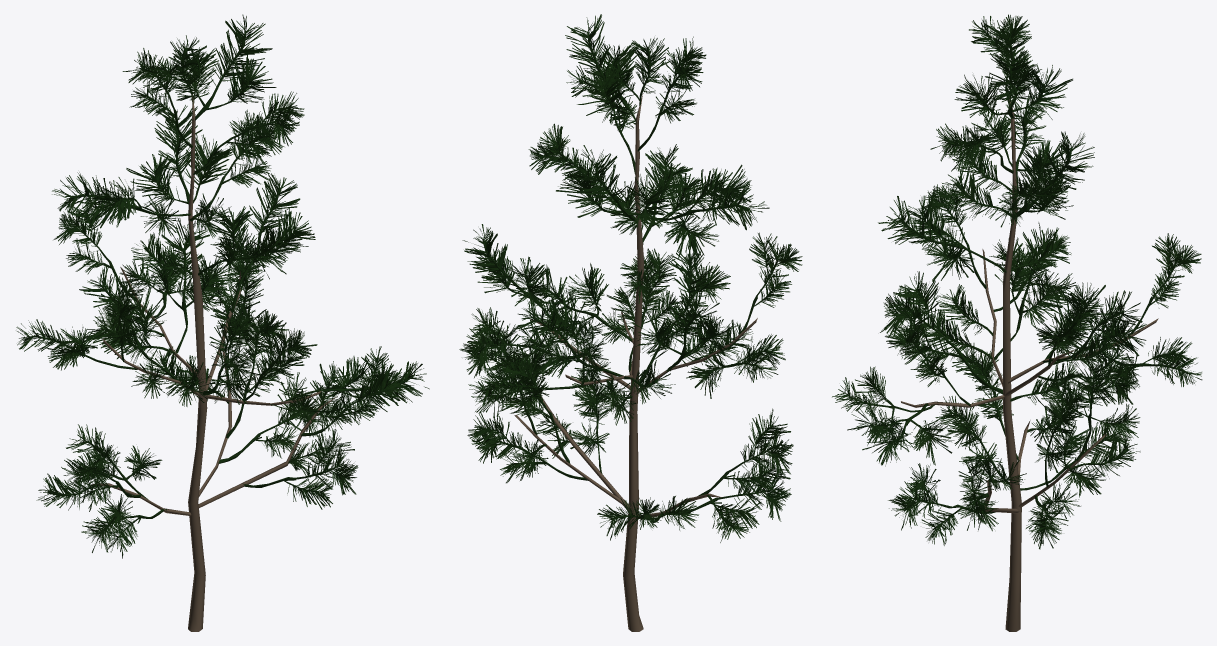
The model's file is Pine_Sapling.fbx.
3 views of the same model, side by side, from view 1: azimuth 30°, elevation 25°; view 2: azimuth 150°, elevation 25°; view 3: azimuth 270°, elevation 25° (orthographic).
Visible parts, largest first — view 1: pine_sapling_small_a; view 2: pine_sapling_small_a; view 3: pine_sapling_small_a.
Part boxes in pixels (bbox=[...]): pine_sapling_small_a: bbox=[16, 14, 429, 631]; pine_sapling_small_a: bbox=[459, 14, 802, 631]; pine_sapling_small_a: bbox=[832, 14, 1202, 631].
Size of the model in its own units: 78.83 by 130 by 72.78.
